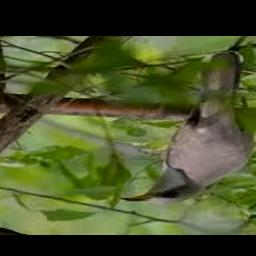Cuckoo: (121, 53, 253, 204)
